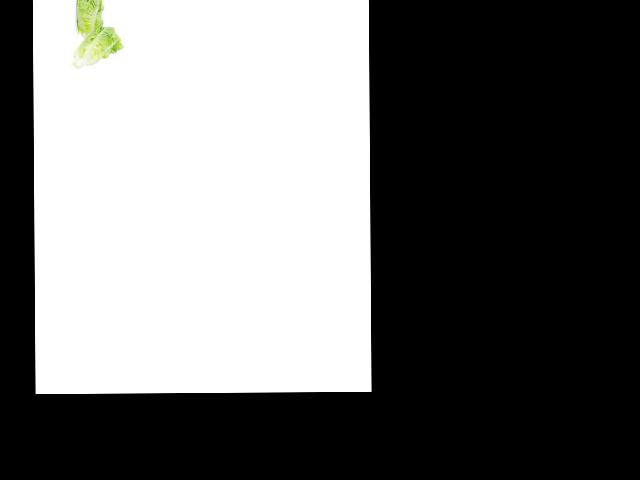lettuce: (68, 20, 121, 70)
